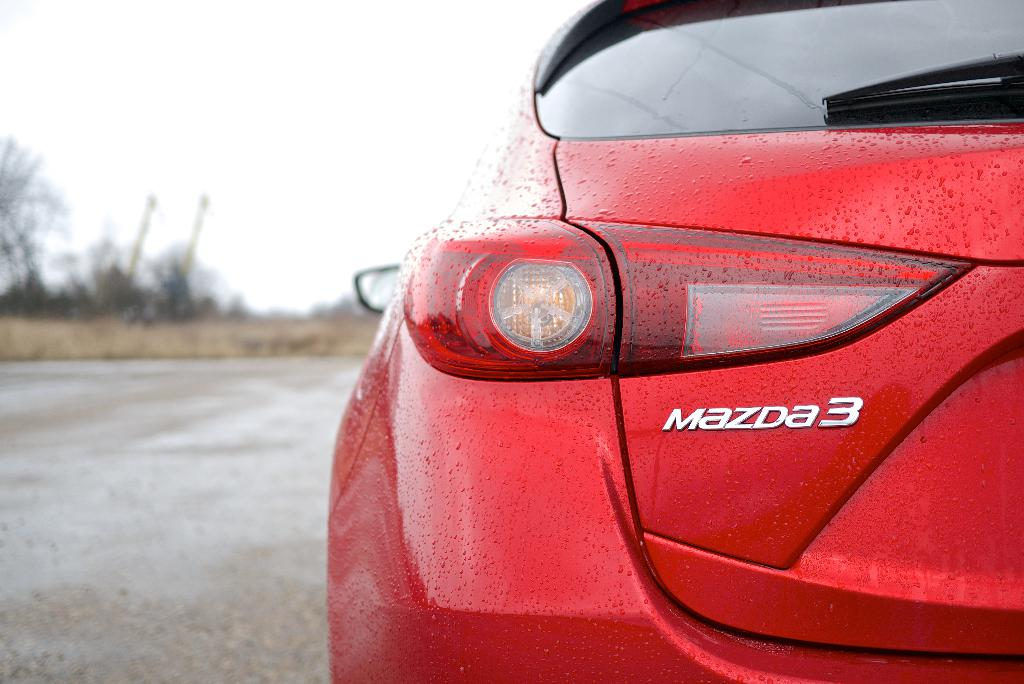Car: (323, 0, 1023, 683)
